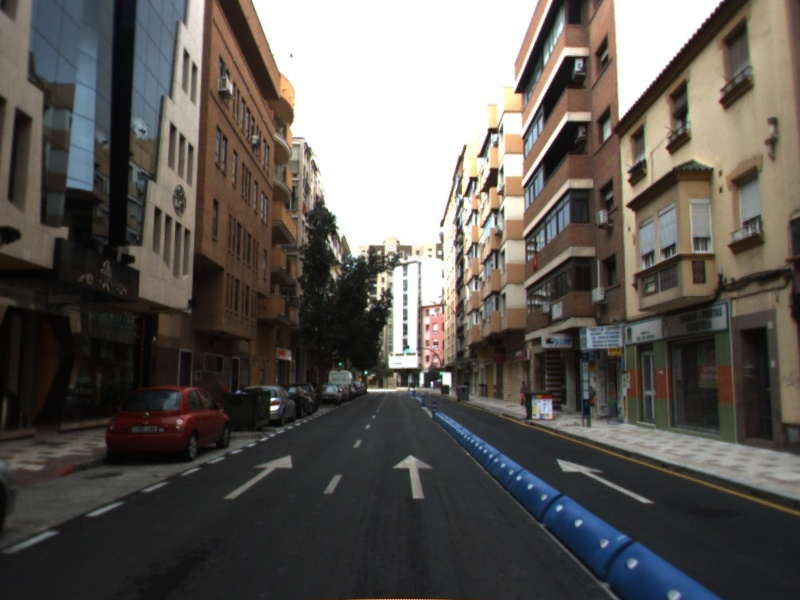STRAIGHT: (555, 457, 656, 505), (222, 454, 294, 500), (391, 453, 435, 500)
